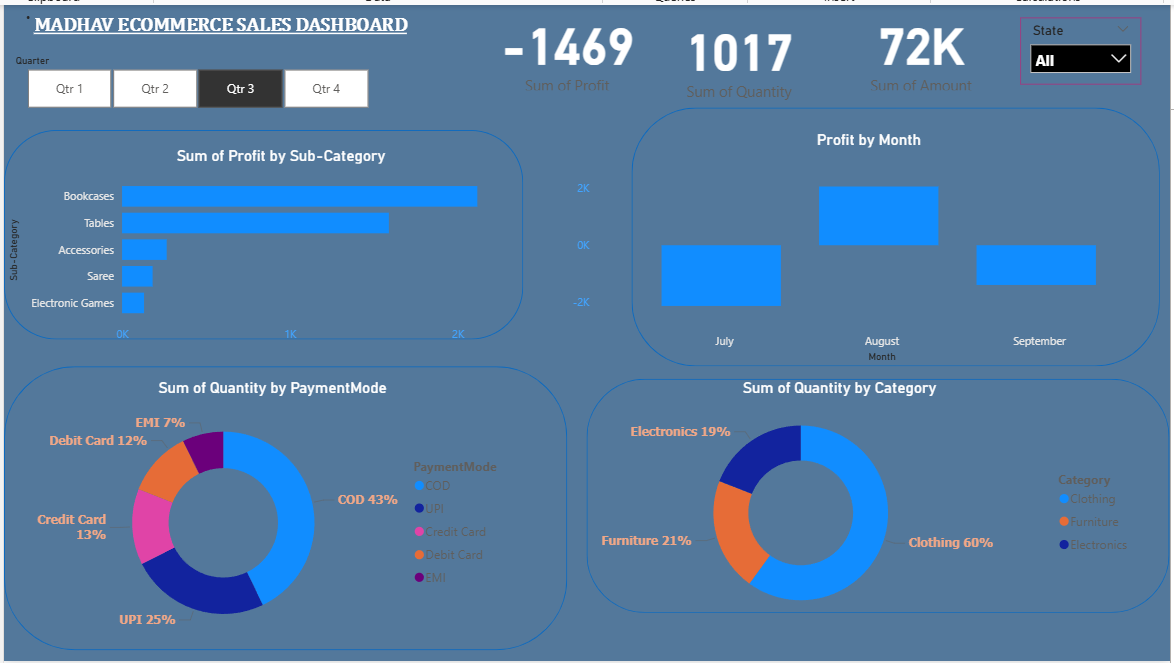

The page's visual inventory and layout, read from the dashboard file:
{"tool":"powerbi","page":{"name":"Page 1","canvas":[1280,720],"ordinal":0},"visuals":[{"type":"textbox","box":[9.6,0,441.9,67.2],"z":0},{"type":"clusteredColumnChart","title":" Profit by Month","fields":{"Category":["Orders.Order Date.Variation.Date Hierarchy.Month","Orders.Order Date.Variation.Date Hierarchy.Day"],"Y":["Sum(Details.Profit)"]},"box":[618.6,137.1,661.4,260],"z":1000},{"type":"clusteredBarChart","fields":{"Category":["Details.Sub-Category"],"Y":["Sum(Details.Profit)"]},"box":[0,155,608.3,225],"z":2000},{"type":"donutChart","fields":{"Category":["Details.Category"],"Y":["Sum(Details.Quantity)"]},"box":[587.1,410,660,275.7],"z":3000},{"type":"donutChart","fields":{"Category":["Details.PaymentMode"],"Y":["Sum(Details.Quantity)"]},"box":[27.5,410,535,297.5],"z":4000},{"type":"card","fields":{"Values":["Sum(Details.Amount)"]},"box":[917.5,0,177.5,98.8],"z":5000},{"type":"card","fields":{"Values":["Sum(Details.Profit)"]},"box":[536.2,0,163.8,98.8],"z":6000},{"type":"card","fields":{"Values":["Sum(Details.Quantity)"]},"box":[725,0,165,112.5],"z":7000},{"type":"slicer","fields":{"Values":["Orders.Order Date.Variation.Date Hierarchy.Quarter"]},"box":[0,50,423.8,70],"z":8000},{"type":"slicer","fields":{"Values":["Orders.State"]},"box":[1115,13.8,132.5,73.8],"z":9000},{"type":"shape","box":[0,396.7,618.3,311.7],"z":10000},{"type":"shape","box":[0,137,570,230],"z":11000},{"type":"shape","box":[688.6,112.9,580,284.3],"z":12000},{"type":"shape","box":[640,410,640,257.1],"z":13000}]}

Visuals, with their boxes in screenshot pixels (x1, y1, x2, y2), scaled from the page's 1280x720 canvas onto the 1174x663 screenshot:
textbox: bbox=[9, 0, 414, 62]
" Profit by Month" clusteredColumnChart: bbox=[567, 126, 1173, 366]
clusteredBarChart - Details.Sub-Category x Sum(Details.Profit): bbox=[0, 143, 558, 350]
donutChart - Details.Category x Sum(Details.Quantity): bbox=[538, 378, 1144, 631]
donutChart - Details.PaymentMode x Sum(Details.Quantity): bbox=[25, 378, 516, 651]
card - Sum(Details.Amount): bbox=[842, 0, 1004, 91]
card - Sum(Details.Profit): bbox=[492, 0, 642, 91]
card - Sum(Details.Quantity): bbox=[665, 0, 816, 104]
slicer - Orders.Order Date.Variation.Date Hierarchy.Quarter: bbox=[0, 46, 389, 110]
slicer - Orders.State: bbox=[1023, 13, 1144, 81]
shape: bbox=[0, 365, 567, 652]
shape: bbox=[0, 126, 523, 338]
shape: bbox=[632, 104, 1164, 366]
shape: bbox=[587, 378, 1173, 614]
